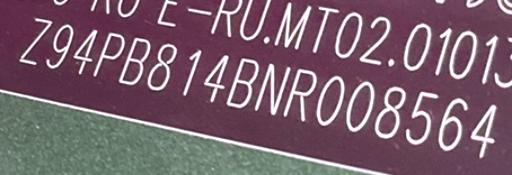letter: (253, 63, 291, 116), (404, 90, 438, 143), (285, 68, 319, 121), (19, 18, 55, 66), (437, 97, 467, 152), (374, 88, 406, 137), (119, 37, 151, 86), (226, 59, 258, 108), (469, 104, 497, 159), (316, 77, 346, 126), (346, 81, 374, 132), (147, 43, 177, 90), (202, 54, 232, 101), (92, 32, 124, 75), (177, 48, 205, 97), (45, 23, 73, 68), (72, 28, 98, 73)
